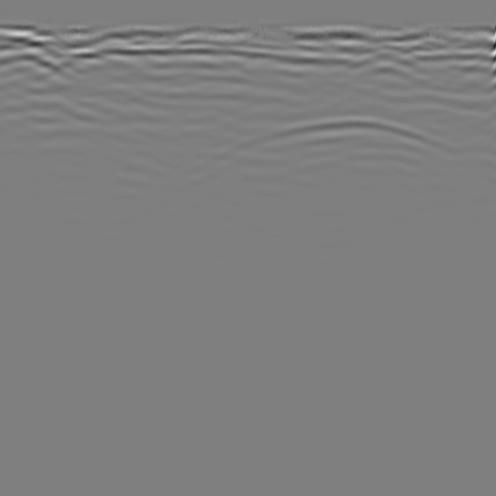hyperbola: (204, 105, 485, 229)
